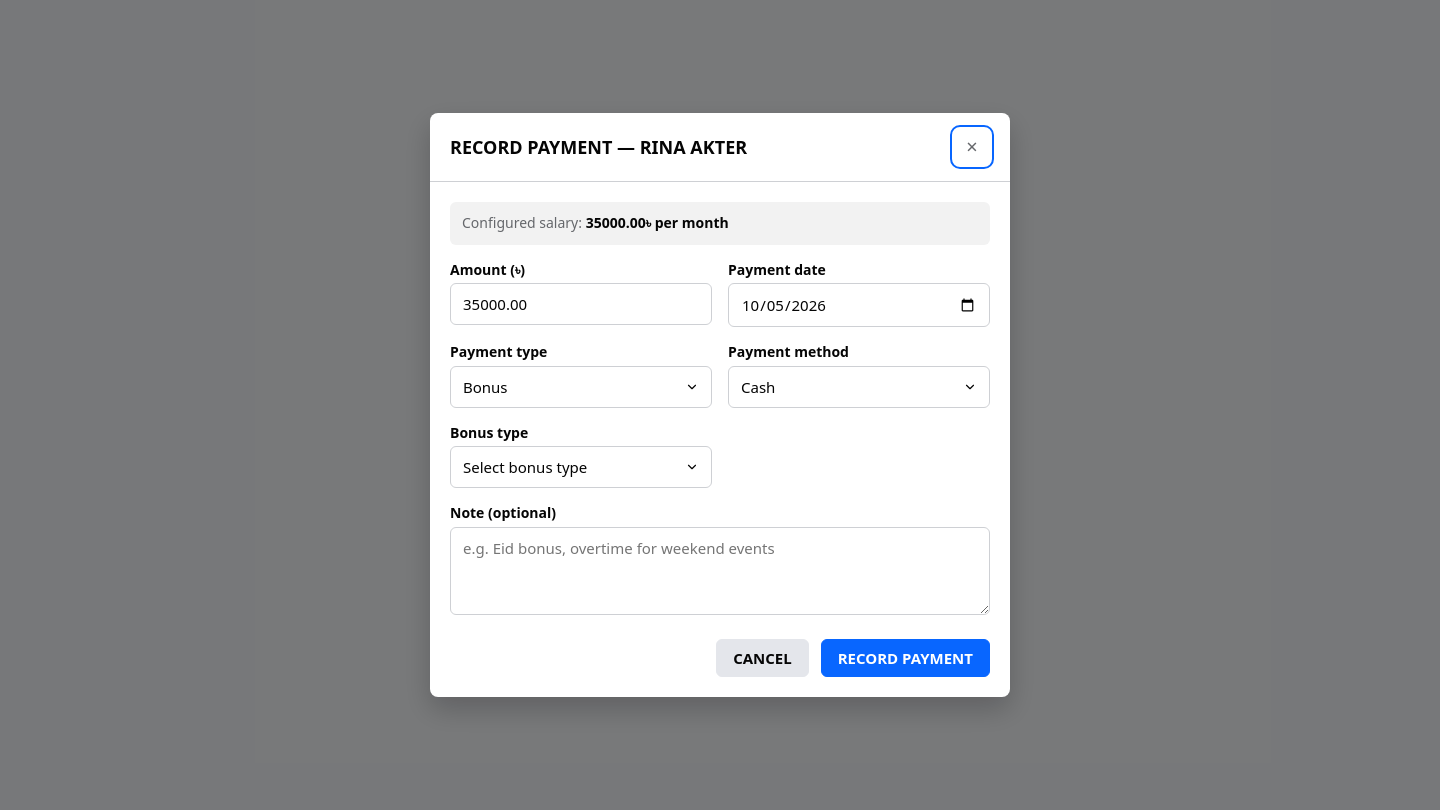
Test case: SalaryPaymentFormModal › rejects zero amount
Replace the text in the field labelled "Amount (৳)" with "0": [581, 304] box [450,283,712,325]
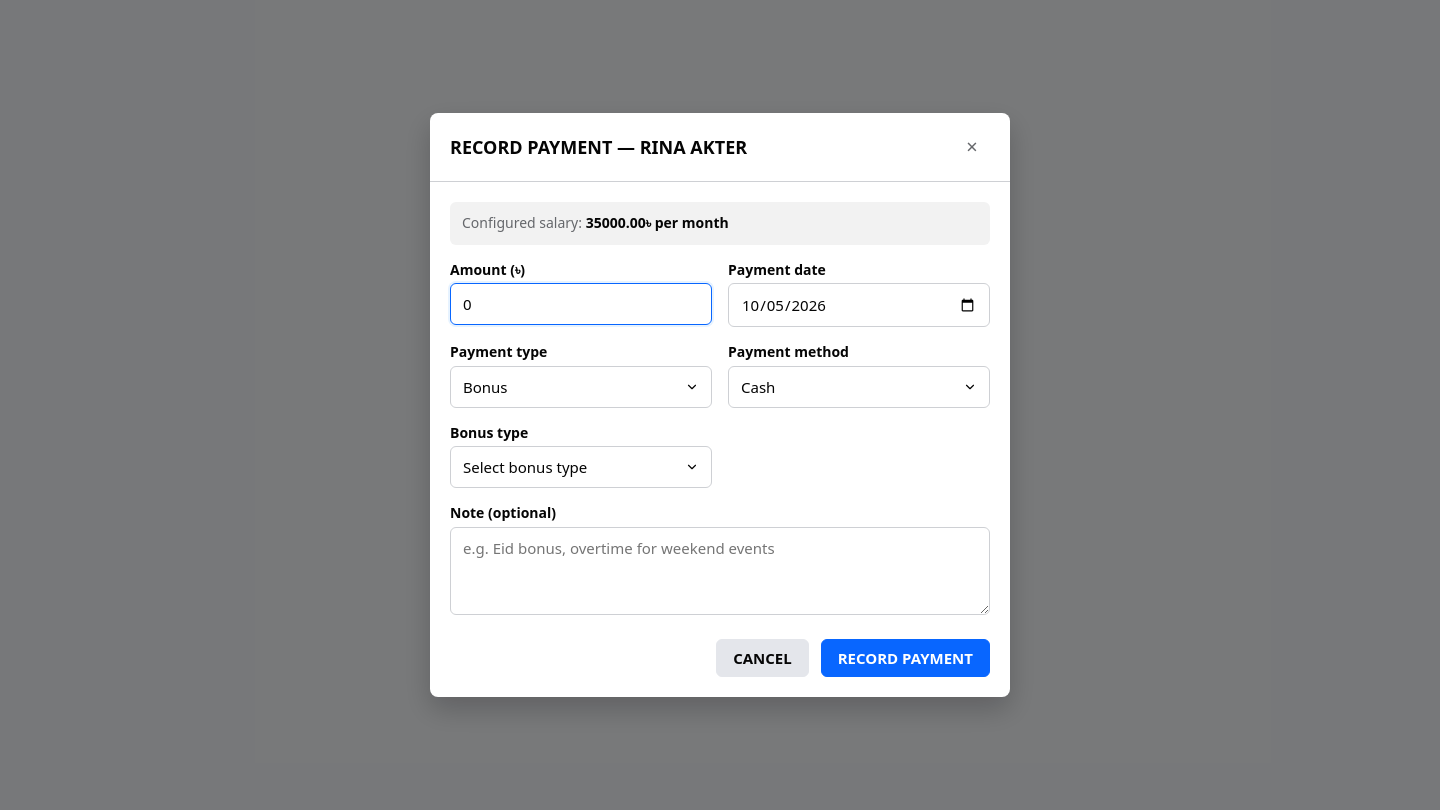
Click the button "Record payment": [905, 658] box [821,639,990,677]
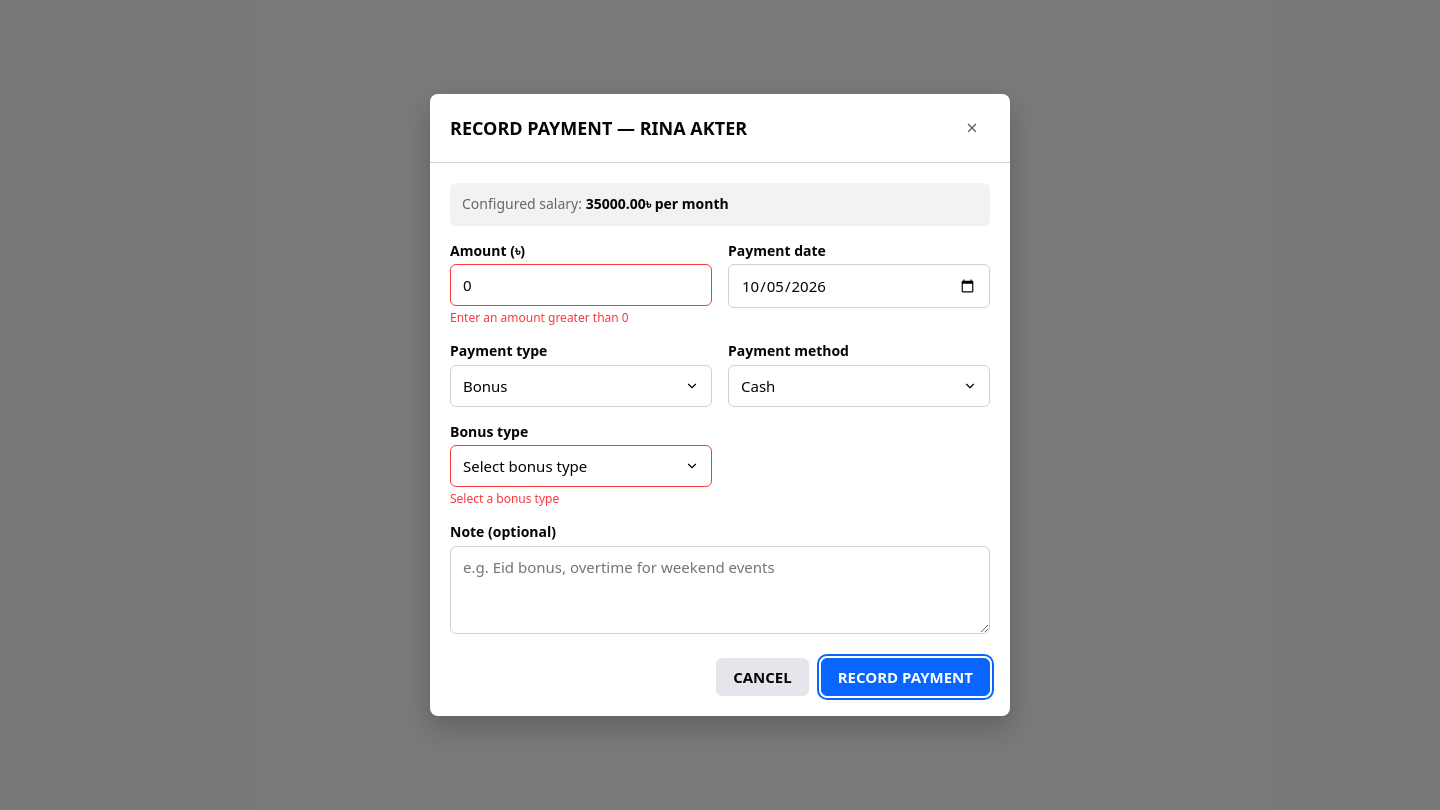
Now the text "Enter an amount greater than 0" is shown, box [450,309,629,326]
